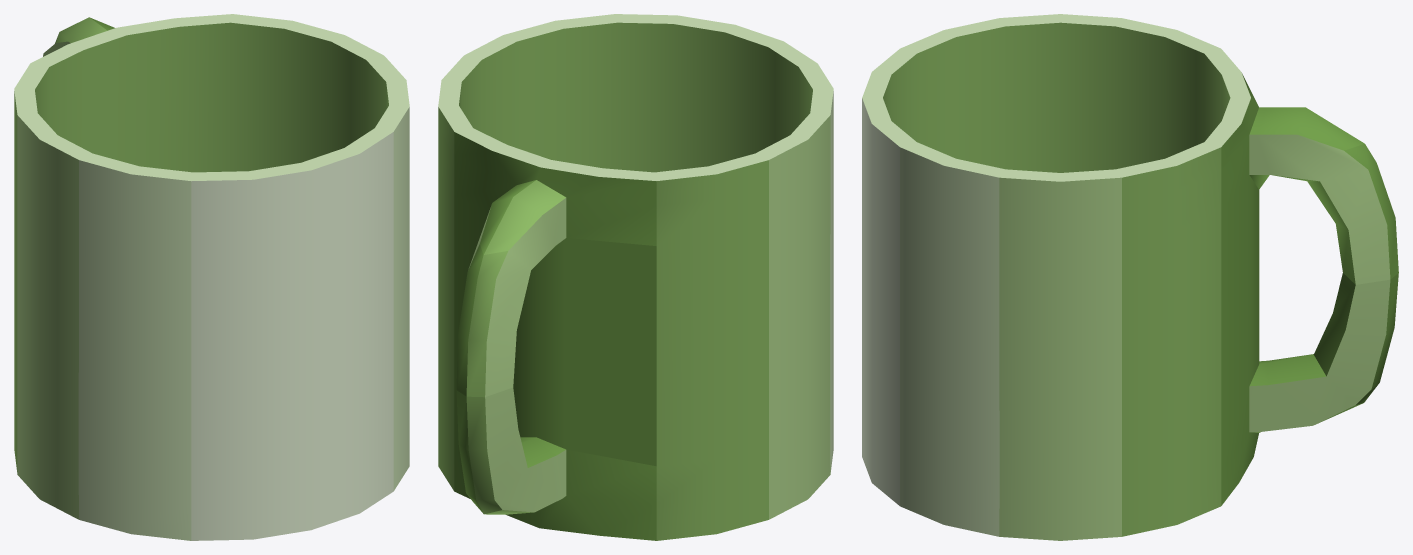
The model's file is greencup.fbx.
The picture shows the model from 3 angles, left to right: view 1: azimuth 30°, elevation 25°; view 2: azimuth 150°, elevation 25°; view 3: azimuth 270°, elevation 25°; orthographic projection.
Visible parts, largest first — view 1: pCylinder1; view 2: pCylinder1; view 3: pCylinder1.
Part boxes in pixels (bbox=[...]): pCylinder1: bbox=[14, 14, 409, 540]; pCylinder1: bbox=[438, 14, 833, 540]; pCylinder1: bbox=[862, 14, 1398, 540].
Size of the model in its own units: 14.96 by 14.93 by 20.23.
Materials: 1 (1 with a texture image).
